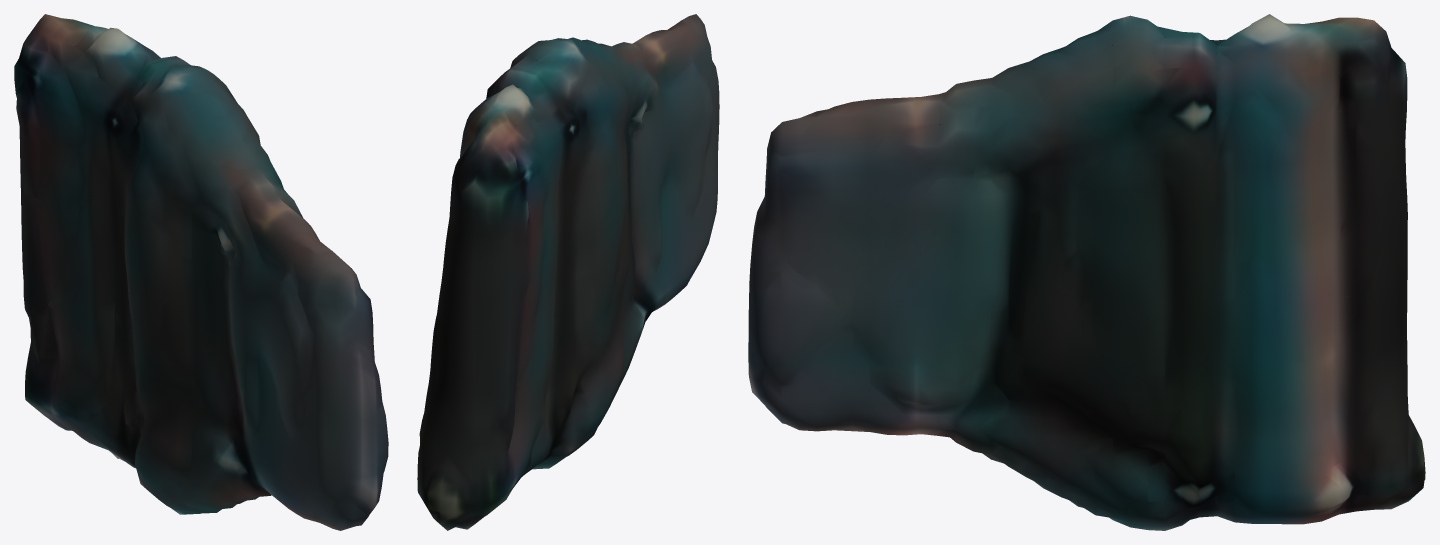
The model's file is sofaRefined.glb.
The picture shows the model from 3 angles, left to right: view 1: azimuth 30°, elevation 25°; view 2: azimuth 150°, elevation 25°; view 3: azimuth 270°, elevation 25°; orthographic projection. The views are drawn at different scales.
Visible parts, largest first — view 1: world; view 2: world; view 3: world.
Part boxes in pixels (<box>): world: <box>14,14,388,530</box>; world: <box>417,14,719,530</box>; world: <box>748,14,1425,530</box>.
Size of the model in its own units: 0.0695 by 0.2161 by 0.2654.
Materials: 1 (1 with a texture image).
